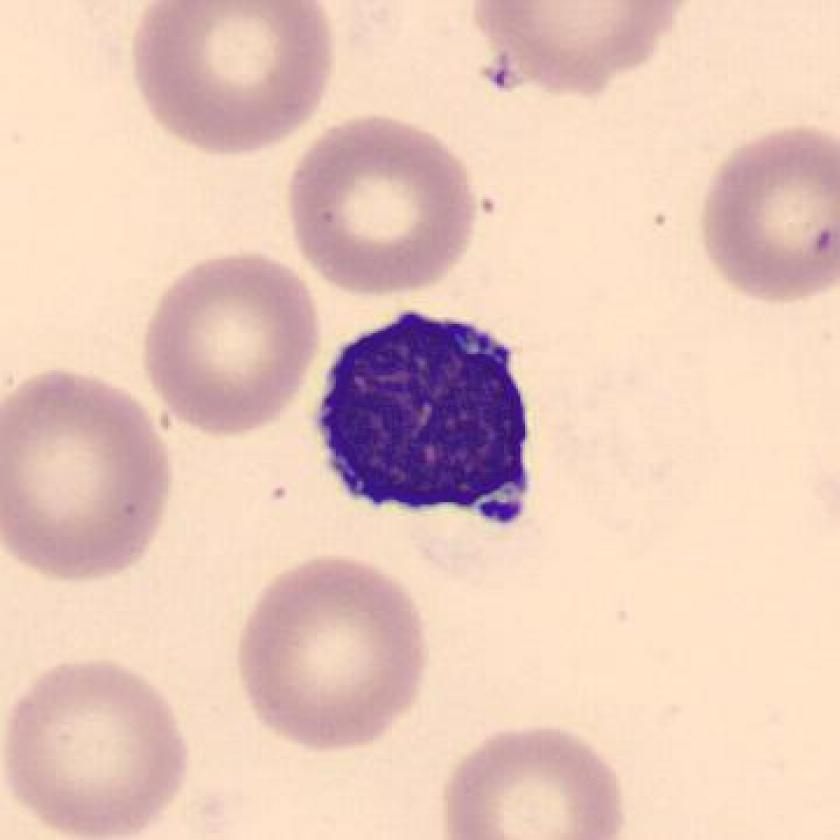lymphocyte: (293, 295, 556, 542)
